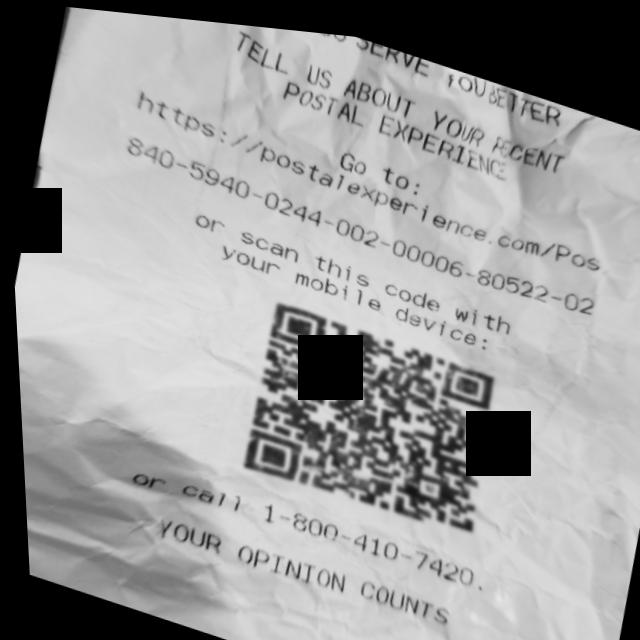QR_CODE: (212, 272, 521, 552)
